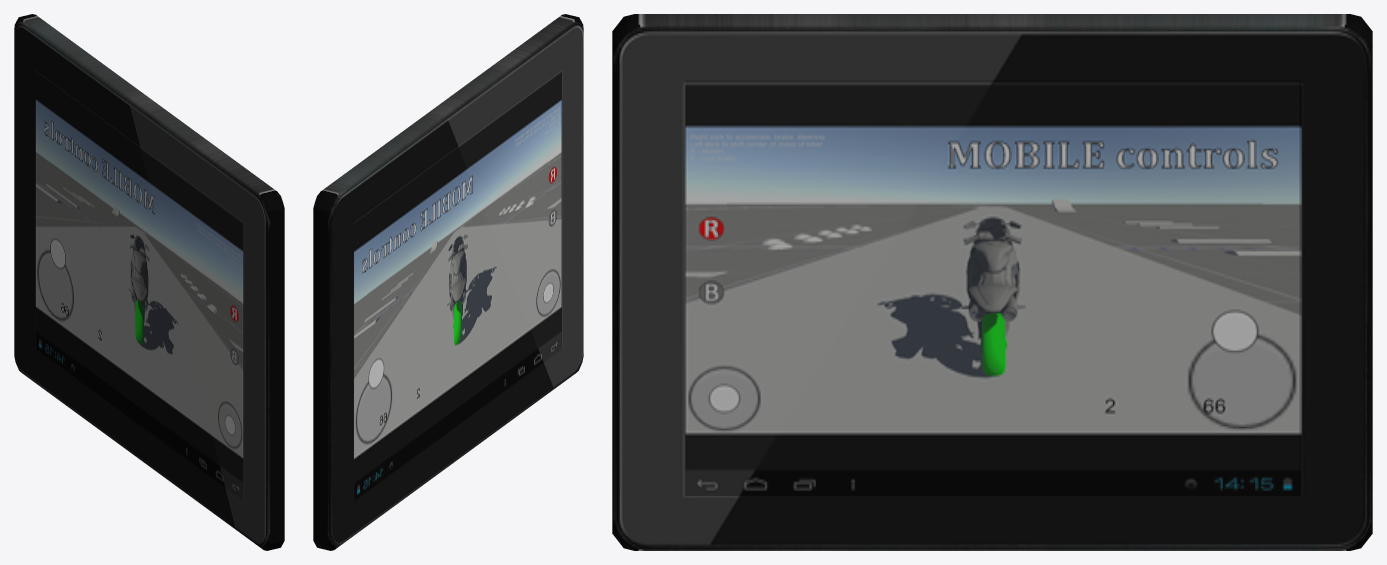
File: mobileDevice.fbx
3 renders of one model, left to right at view 1: azimuth 30°, elevation 25°; view 2: azimuth 150°, elevation 25°; view 3: azimuth 270°, elevation 25°, orthographic. The views are drawn at different scales.
Visible parts, largest first — view 1: polySurface1; view 2: polySurface1; view 3: polySurface1.
Part boxes in pixels (x1,y1,x2,y2): polySurface1: (14,14,284,550); polySurface1: (313,14,583,550); polySurface1: (612,14,1372,550).
Bounding box in the file's own units: 0.121 × 2.15 × 2.82.
